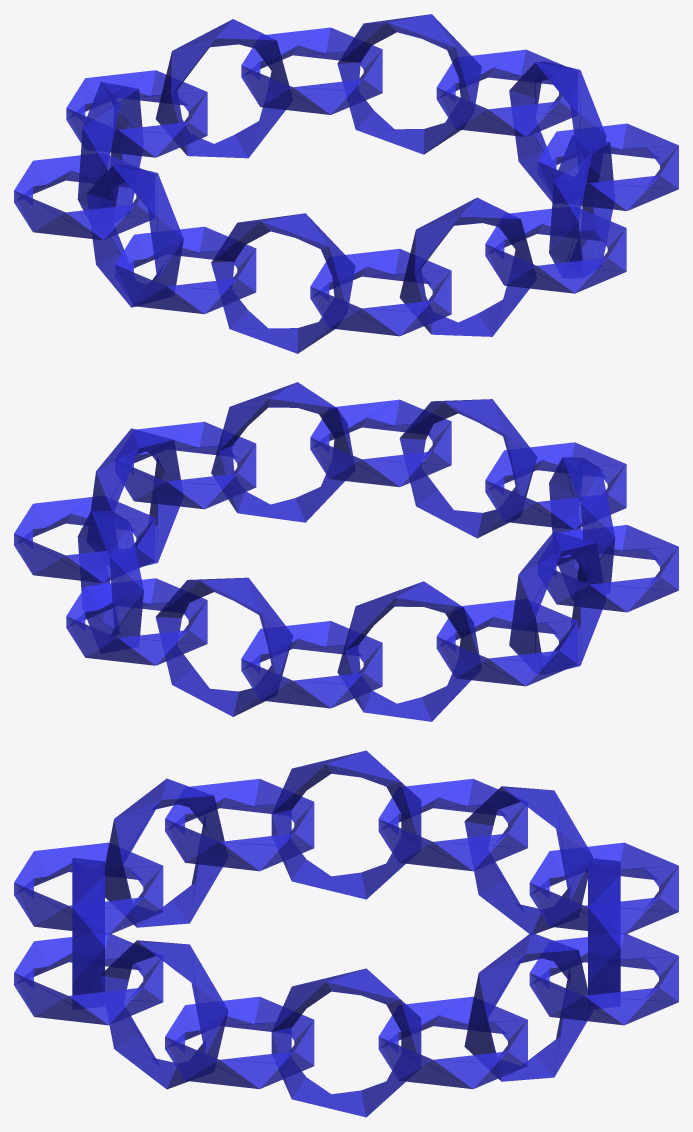
Rendered from fractalhexagonalantiprismtrapezohedrontoroid1.glb.
3 renders of one model, top to bottom at view 1: azimuth 30°, elevation 25°; view 2: azimuth 150°, elevation 25°; view 3: azimuth 270°, elevation 25°, orthographic. The views are drawn at different scales.
Size of the model in its own units: 10.32 by 2.32 by 10.32.
